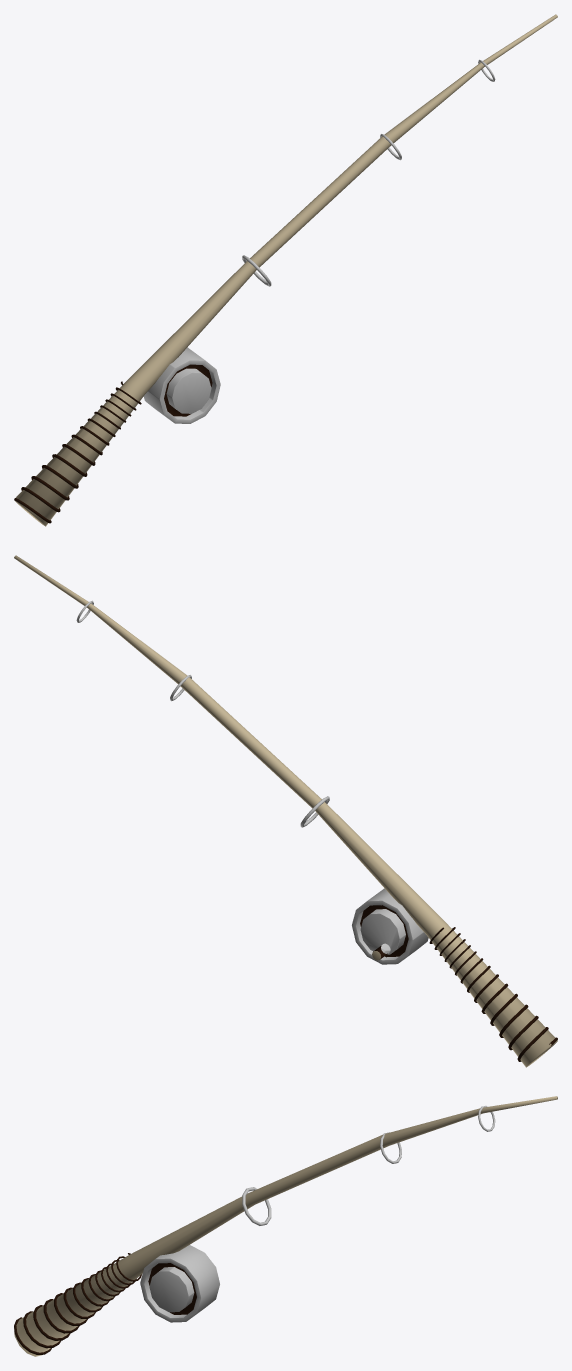
File: Rod.fbx
3 views of the same model, one above another, from view 1: azimuth 30°, elevation 25°; view 2: azimuth 150°, elevation 25°; view 3: azimuth 330°, elevation 25° (orthographic).
Visible parts, largest first — view 1: Plane, Circle, Plane.004; view 2: Plane, Circle, Plane.004; view 3: Plane, Circle, Plane.004, Plane.003.
Part boxes in pixels (x1=…): Plane: x1=14, y1=14, x2=557, y2=526; Circle: x1=143, y1=347, x2=220, y2=423; Plane.004: x1=14, y1=381, x2=141, y2=523; Plane: x1=14, y1=555, x2=557, y2=1067; Circle: x1=352, y1=888, x2=428, y2=964; Plane.004: x1=429, y1=927, x2=557, y2=1061; Plane: x1=14, y1=1096, x2=557, y2=1356; Circle: x1=140, y1=1245, x2=219, y2=1322; Plane.004: x1=14, y1=1253, x2=141, y2=1354; Plane.003: x1=242, y1=1187, x2=271, y2=1225.
Size of the model in its own units: 452 by 308 by 46.75.
